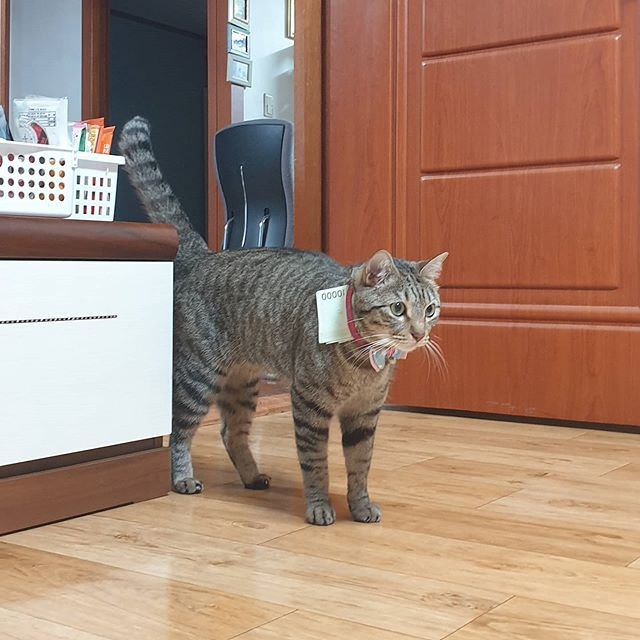cat: (361, 246, 449, 363)
